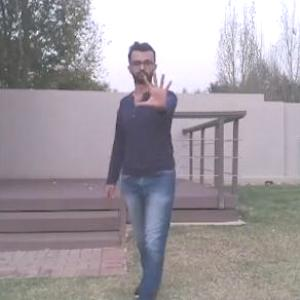follow_hand: (133, 68, 174, 109)
